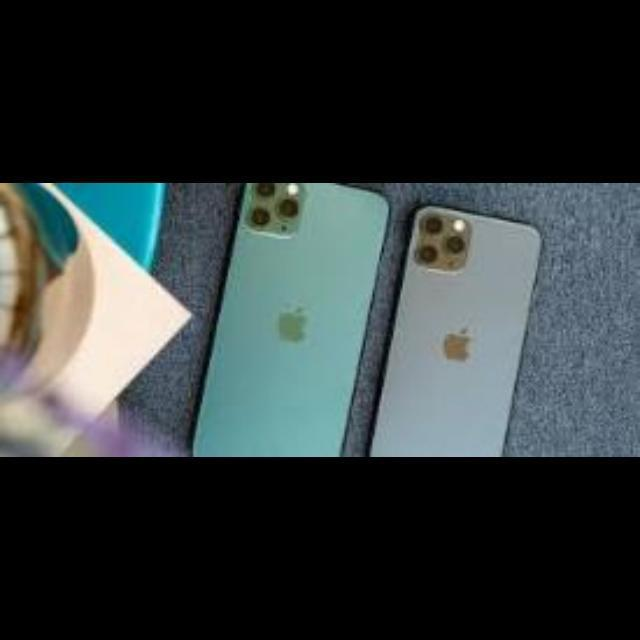PhoneUse: (191, 183, 391, 457), (370, 204, 542, 456)
